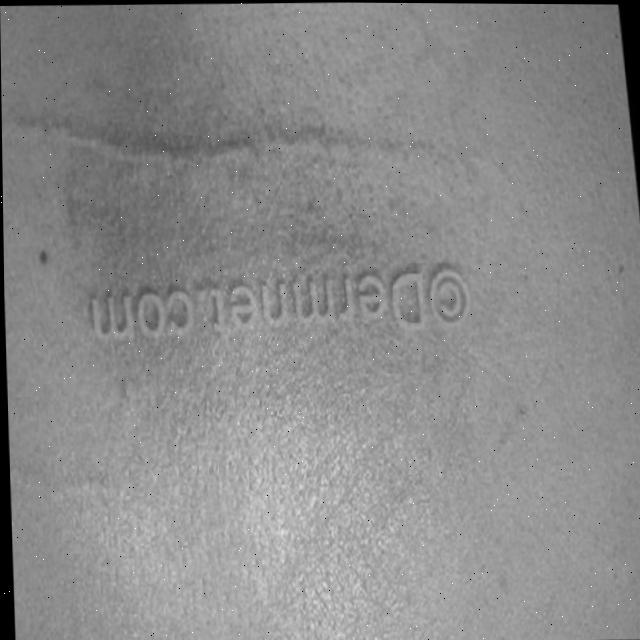Eczema: (68, 139, 411, 432)
